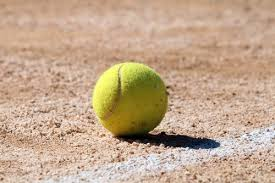tennis_ball: (91, 61, 168, 137)
